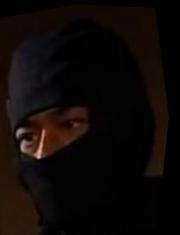WRONG: (1, 86, 136, 231)
